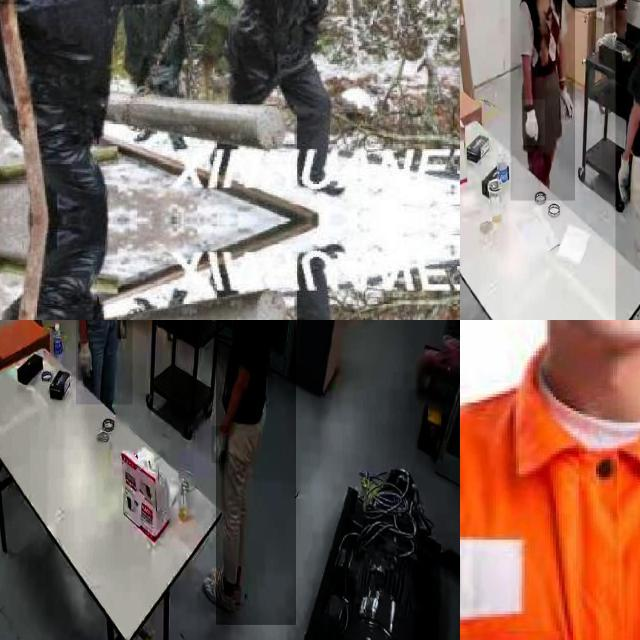hand_glove: (522, 100, 546, 146), (618, 151, 634, 205), (212, 426, 230, 464), (78, 342, 94, 382), (559, 82, 573, 120), (116, 320, 127, 339)
person: (0, 0, 118, 320), (215, 320, 296, 625), (225, 0, 341, 197), (510, 0, 575, 201), (615, 0, 640, 320), (76, 320, 133, 405)
shoes: (202, 568, 240, 624)
